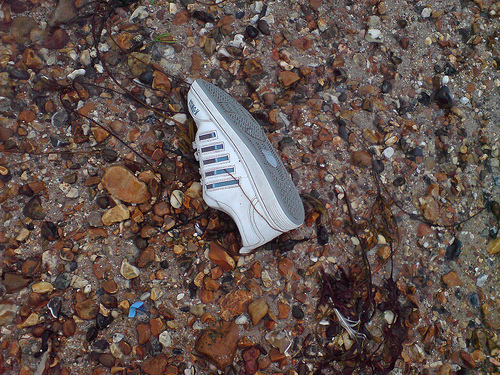litter: (183, 79, 306, 253)
